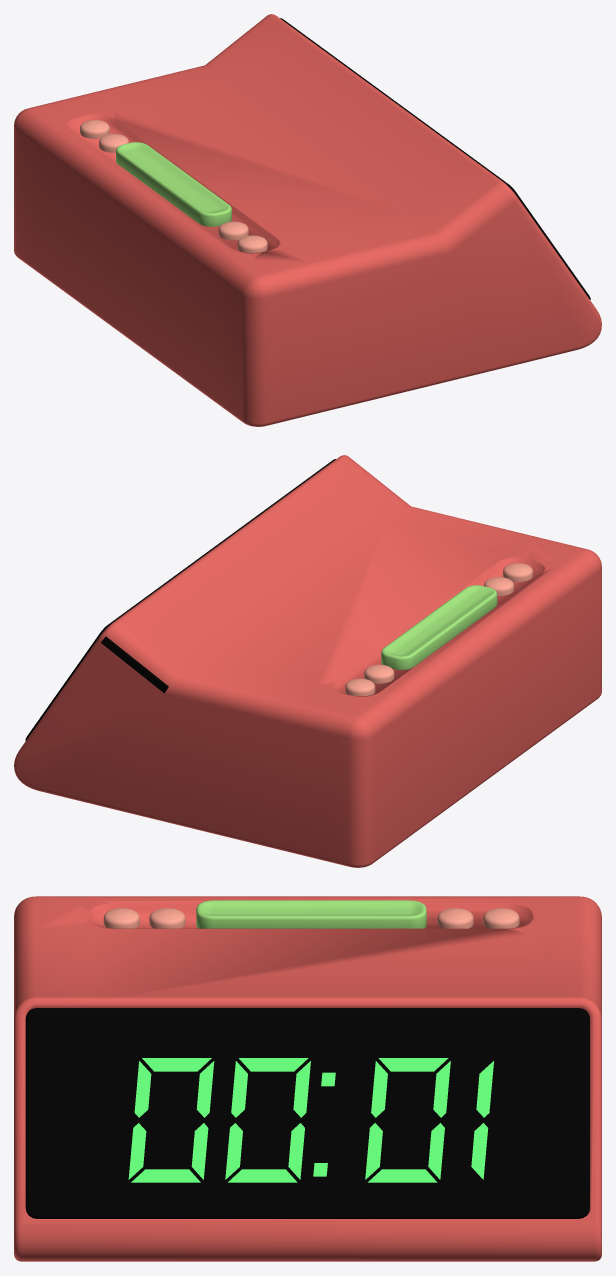
The model's file is clock2.glb.
3 renders of one model, top to bottom at view 1: azimuth 30°, elevation 25°; view 2: azimuth 150°, elevation 25°; view 3: azimuth 270°, elevation 25°, orthographic. The views are drawn at different scales.
Visible parts, largest first — view 1: Cube, Cube.004, Cube.003; view 2: Cube, Cube.004, Cube.003; view 3: Cube.003, Cube, Texte, Cube.004, Cylindre.002, Cylindre.001, Cylindre, Cylindre.003.
Boxes of the visible parts, bbox=[...] form: Cube: bbox=[14, 14, 601, 426]; Cube.004: bbox=[116, 142, 231, 226]; Cube.003: bbox=[280, 18, 590, 299]; Cube: bbox=[14, 455, 601, 867]; Cube.004: bbox=[381, 585, 497, 669]; Cube.003: bbox=[25, 459, 335, 740]; Cube.003: bbox=[25, 1008, 589, 1218]; Cube: bbox=[14, 896, 601, 1261]; Texte: bbox=[128, 1058, 493, 1182]; Cube.004: bbox=[196, 900, 426, 928]; Cylindre.002: bbox=[149, 908, 185, 928]; Cylindre.001: bbox=[437, 908, 473, 928]; Cylindre: bbox=[483, 908, 519, 928]; Cylindre.003: bbox=[103, 908, 139, 928].
Size of the model in its own units: 1.67 by 0.8474 by 2.
